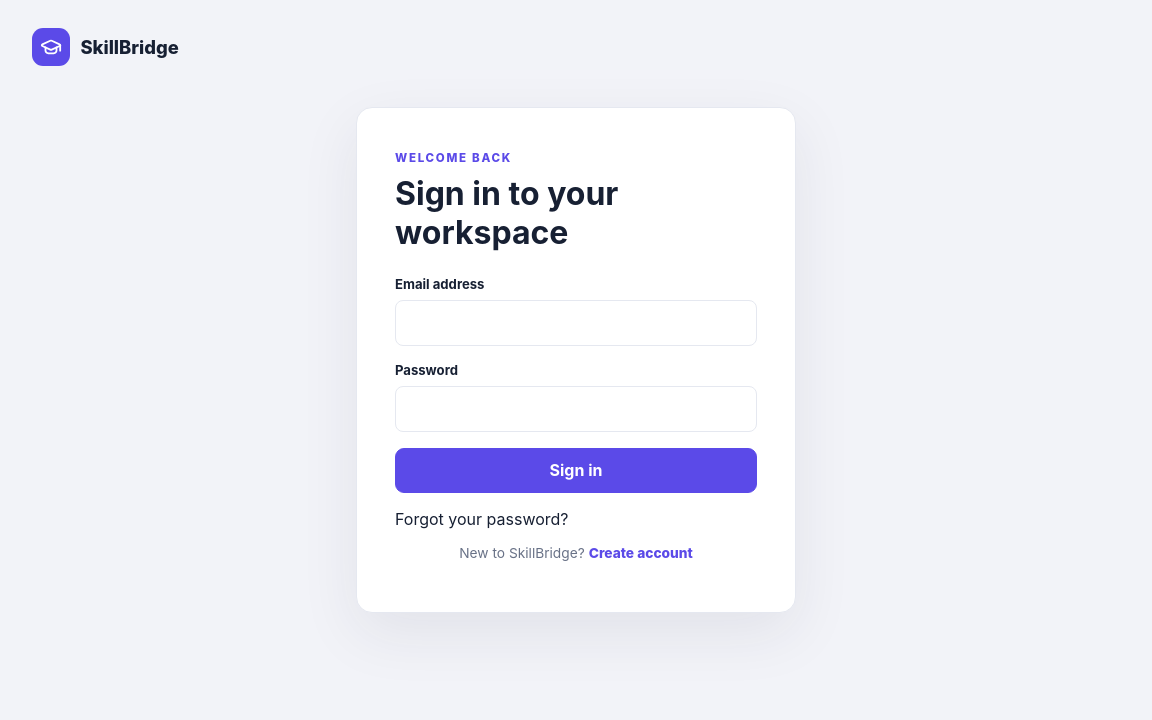
Test: application workflows › authenticates, loads the student workspace, and revokes the session on logout
Step 1. Type "ava@example.test" into the field labelled "Email address" → (576, 323), box left=395, top=300, right=757, bottom=346
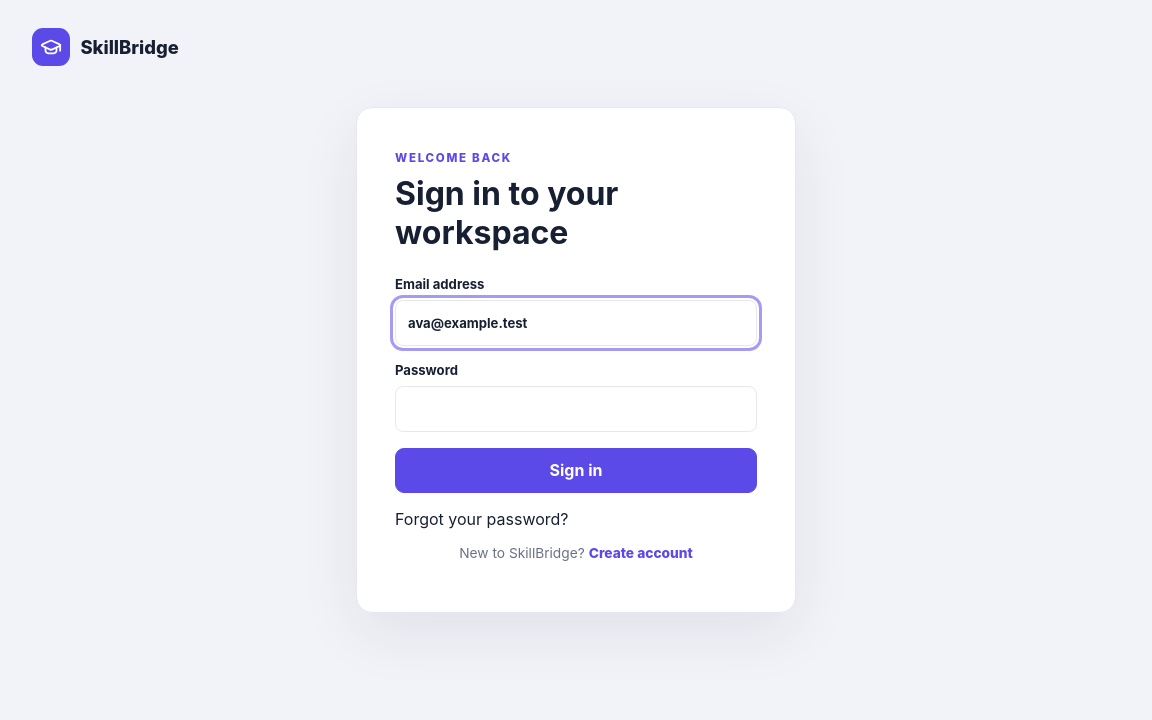
Step 2. Type "password123" into the password field labelled "Password" → (576, 409), box left=395, top=386, right=757, bottom=432
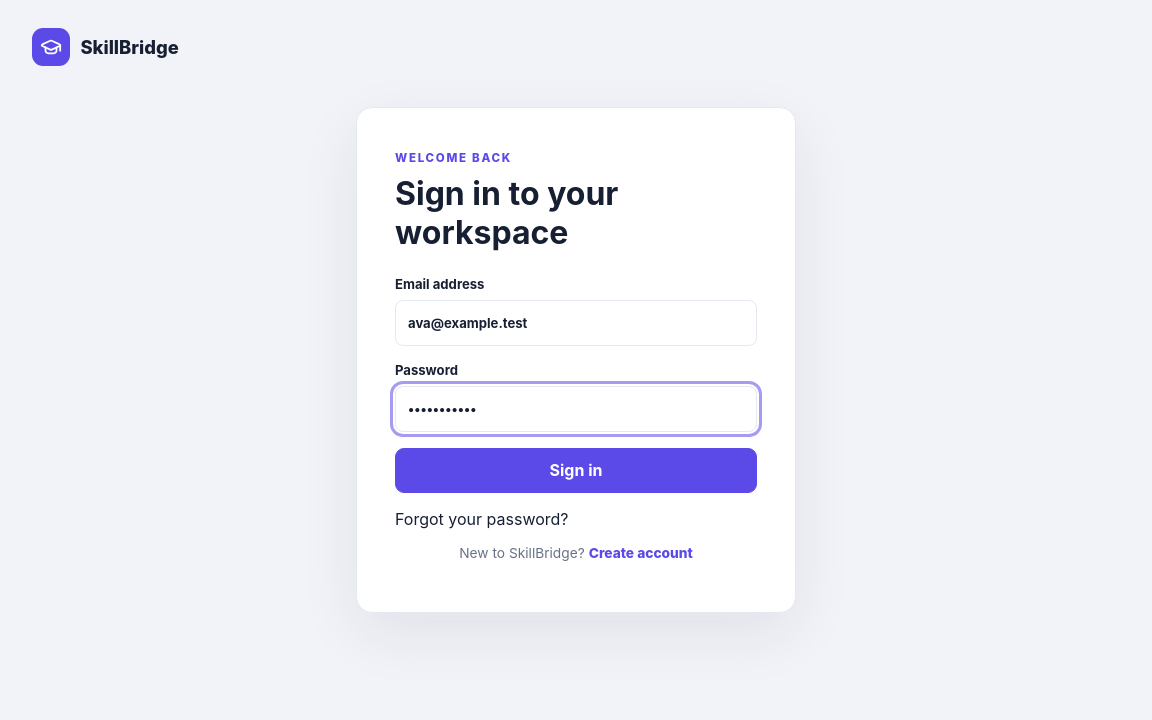
Step 3. Click the button "Sign in" → (576, 470), box left=395, top=448, right=757, bottom=493
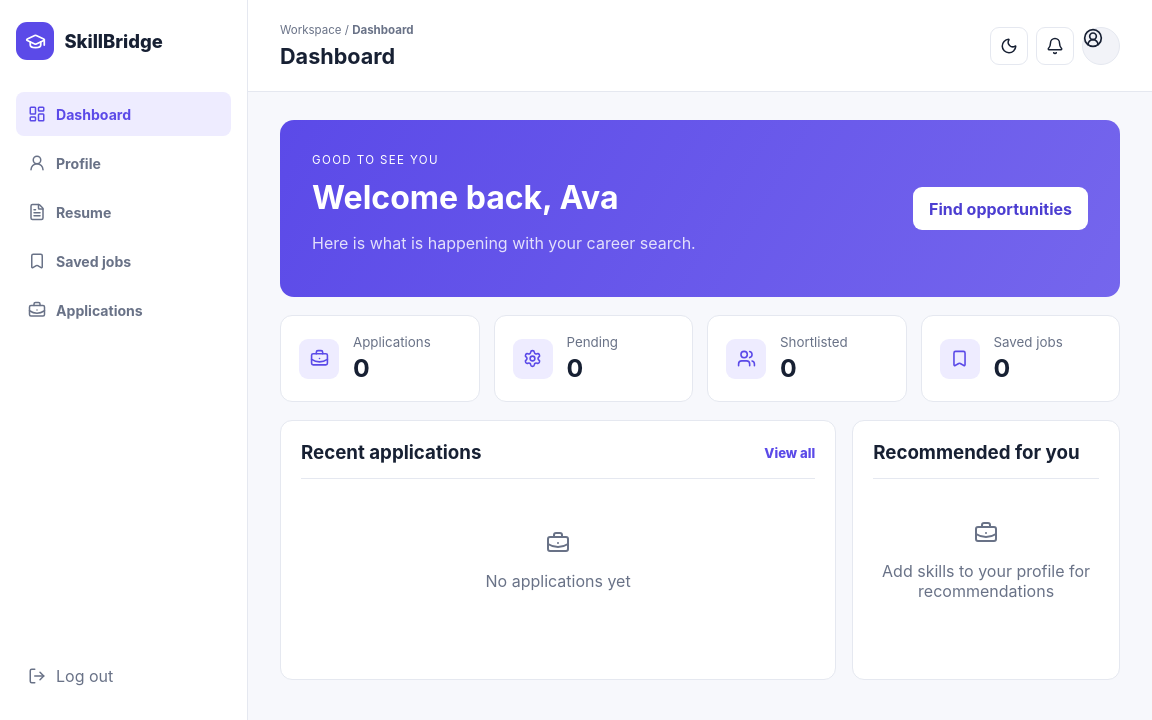
Check: the heading "Welcome back, Ava" is shown, box left=312, top=178, right=618, bottom=217
Step 4. Click the button "Log out" → (124, 676), box left=16, top=654, right=231, bottom=698
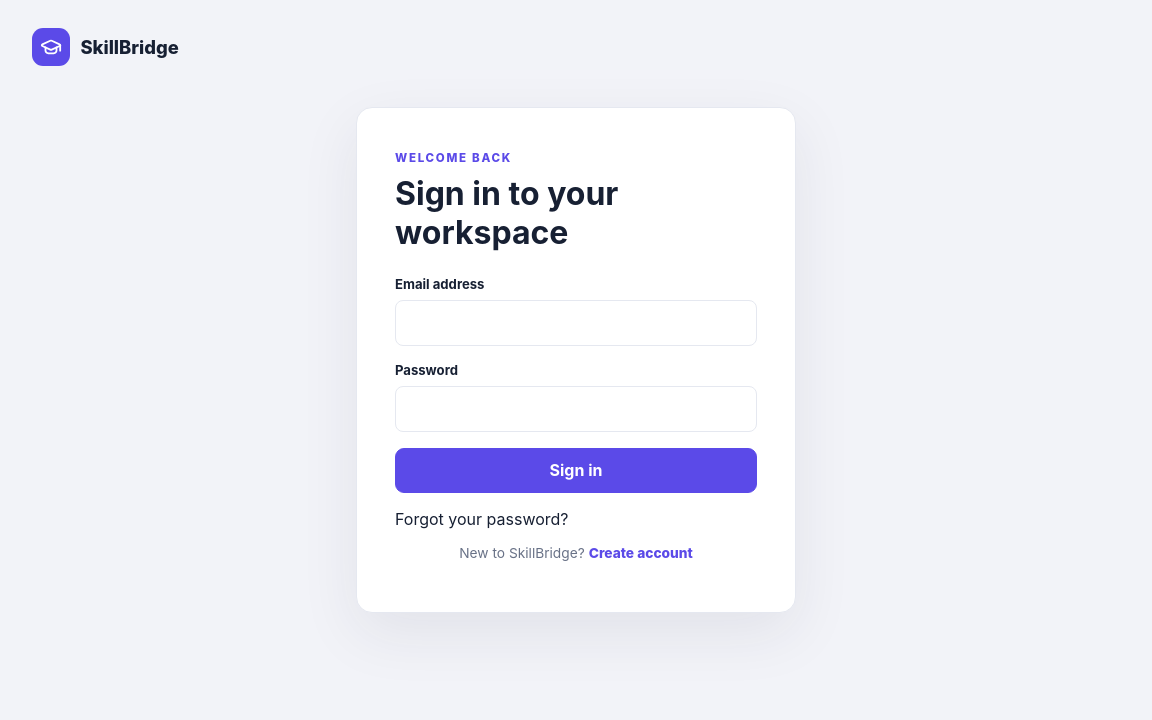
Check: the heading "Sign in to your workspace" is shown, box left=395, top=174, right=618, bottom=252
